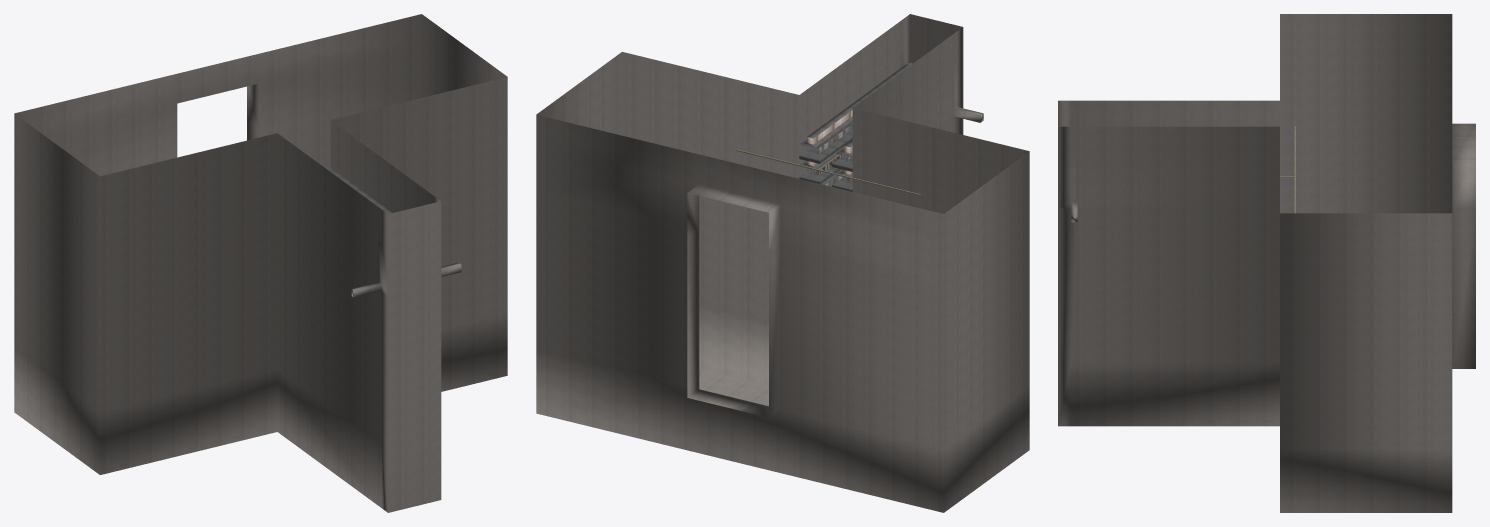
The model's file is prison.gltf.
The picture shows the model from 3 angles, left to right: view 1: azimuth 30°, elevation 25°; view 2: azimuth 150°, elevation 25°; view 3: azimuth 270°, elevation 25°; orthographic projection.
Visible parts, largest first — view 1: Plane; view 2: Plane, Plane.001; view 3: Plane.
Part boxes in pixels (left/top/right/bottom): Plane: left=14, top=14, right=507, bottom=512; Plane: left=536, top=14, right=1029, bottom=512; Plane.001: left=799, top=62, right=912, bottom=191; Plane: left=1058, top=14, right=1475, bottom=512.
Bounding box in the file's own units: 200 × 140 × 177.
Materials: 4 (4 with a texture image).
